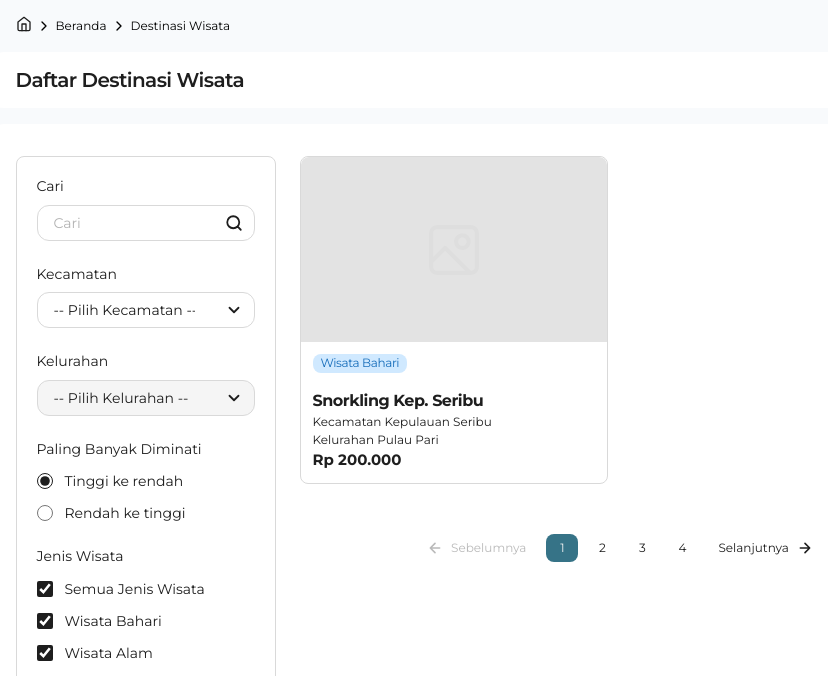
Test: PublicWisataListView › hides pagination and shows "Data tidak ditemukan!" when a search matches nothing across all pages
Type "tidak ada di mana pun" into the search field with test id "public-list-search". click: [146, 223]
box: [36,205,254,241]
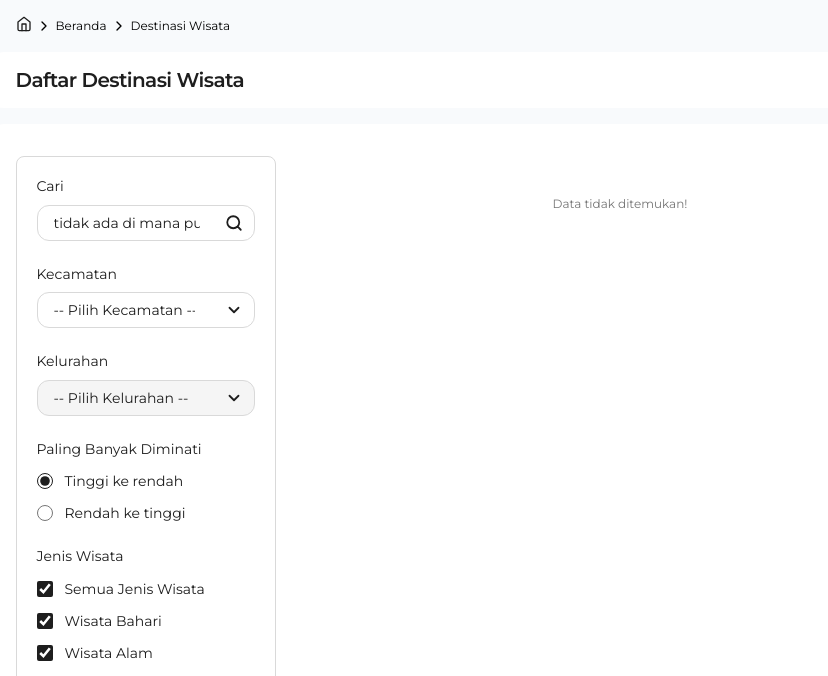
Now the text with test id "public-list-empty" reads "Data tidak ditemukan!", box [553,196,687,211]
